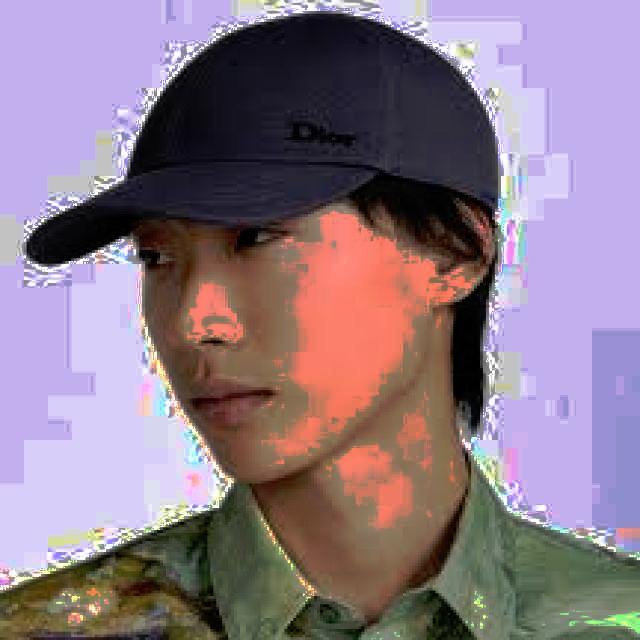TOPI: (28, 6, 502, 268)
